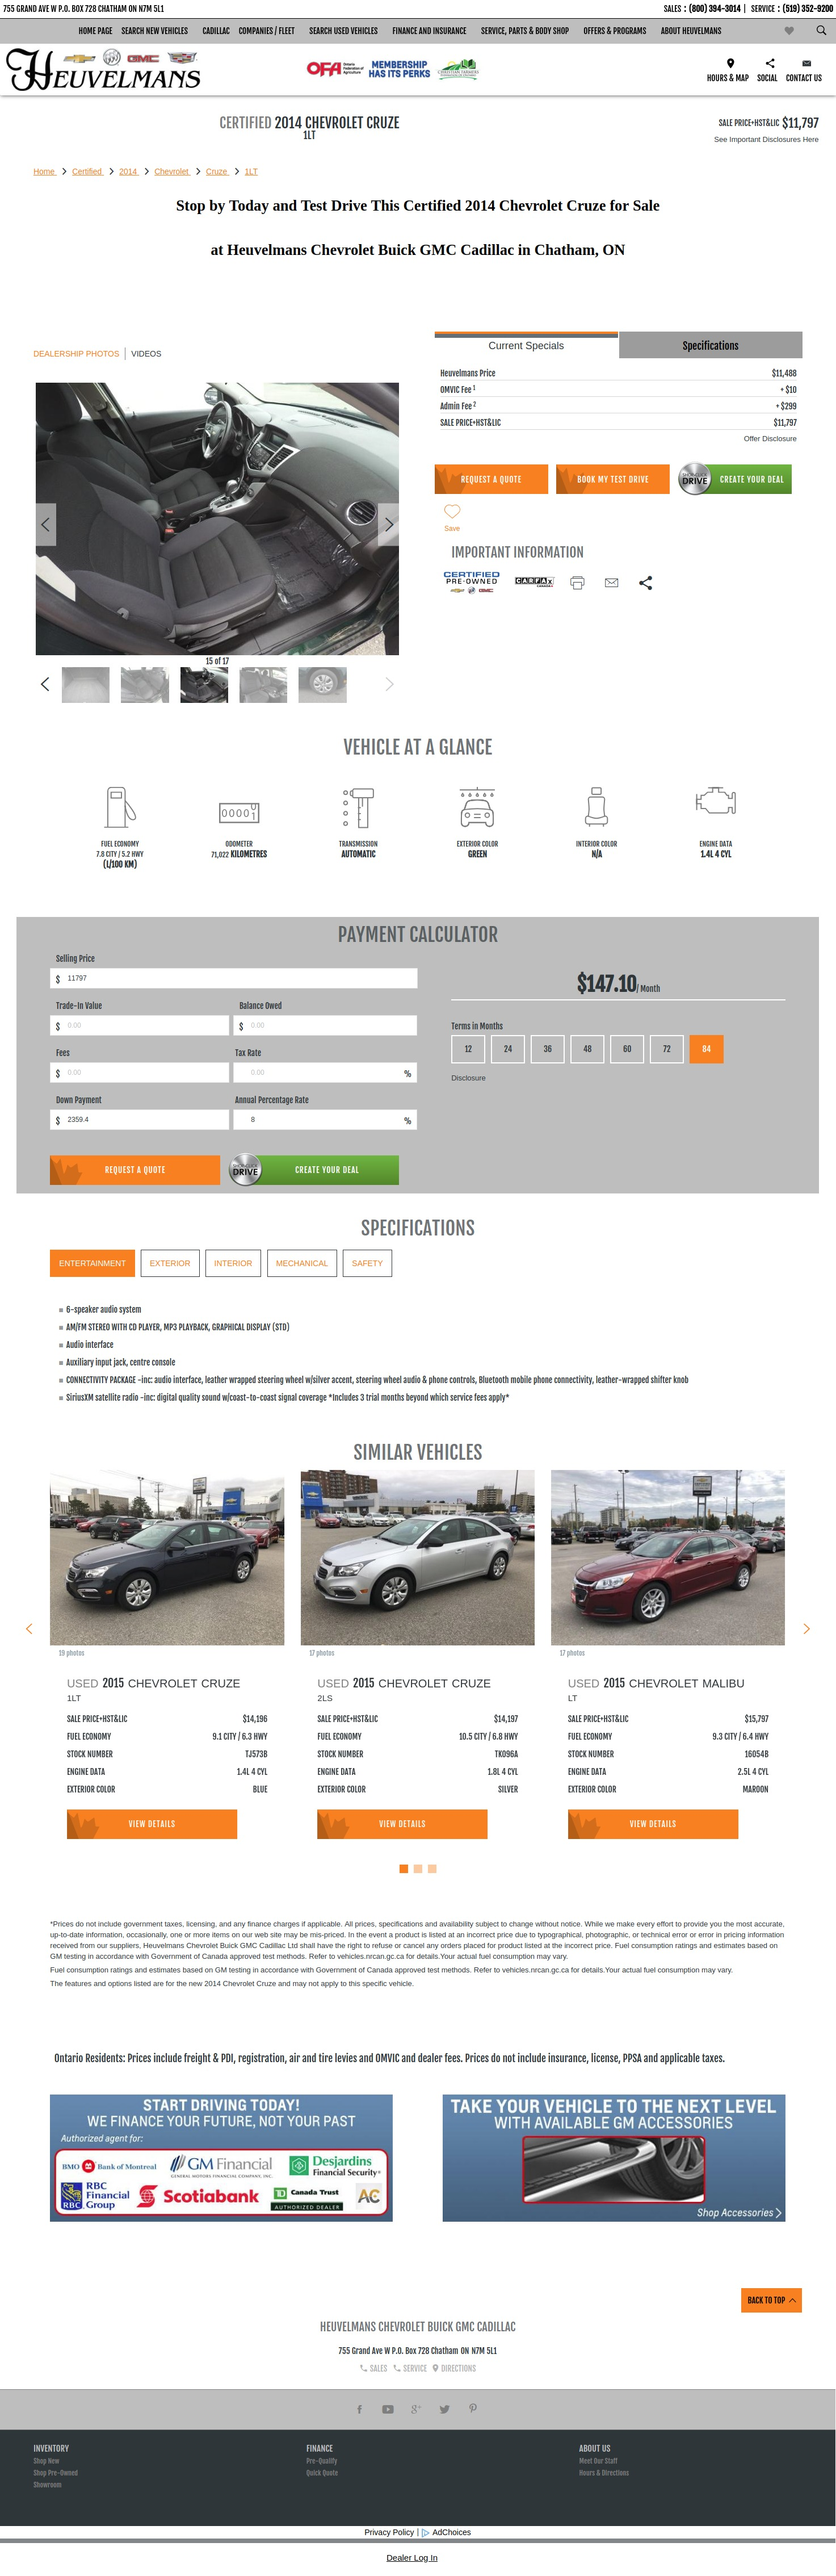car: (386, 677, 394, 692)
